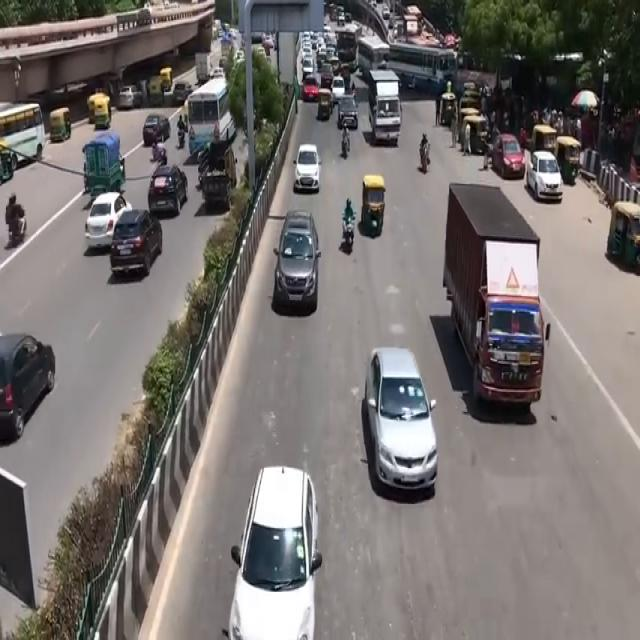BUS: (386, 40, 457, 92), (187, 83, 236, 157), (364, 74, 400, 150)
MOTORCYCLE: (344, 219, 356, 256)
TRUCK: (442, 186, 542, 416)
